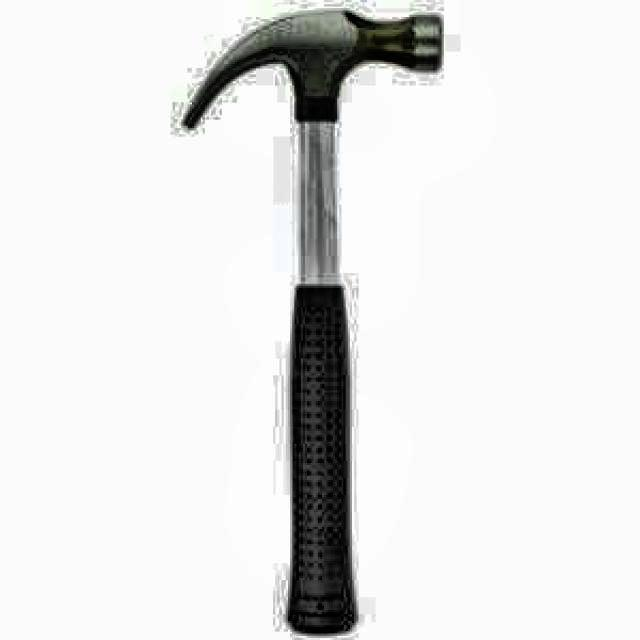hammer: (183, 9, 443, 635)
